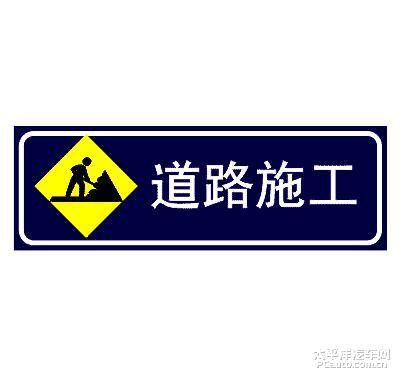sign: (18, 129, 384, 248)
